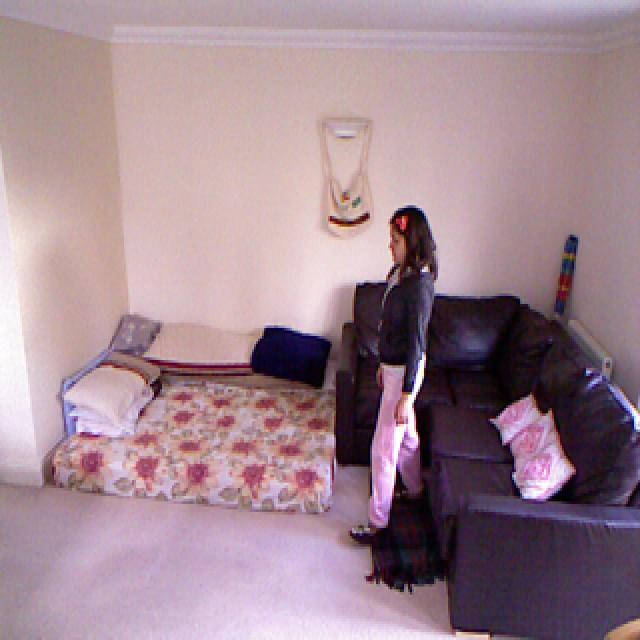standing: (349, 202, 439, 540)
